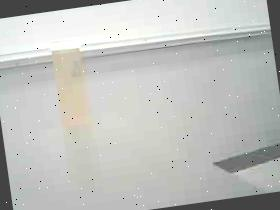Bottle A: (45, 32, 104, 138)
